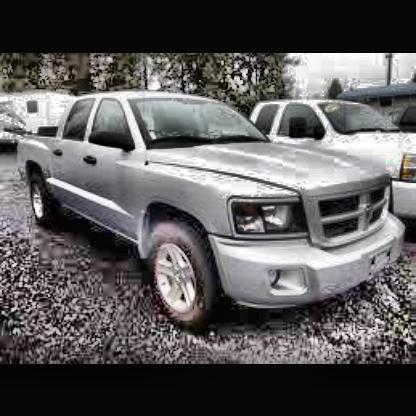Dodge Dakota Crew Cab 2010: (17, 85, 412, 327)
